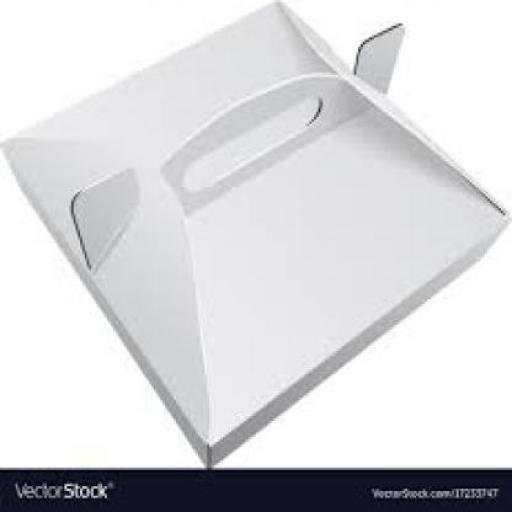cardboard: (0, 0, 510, 465)
